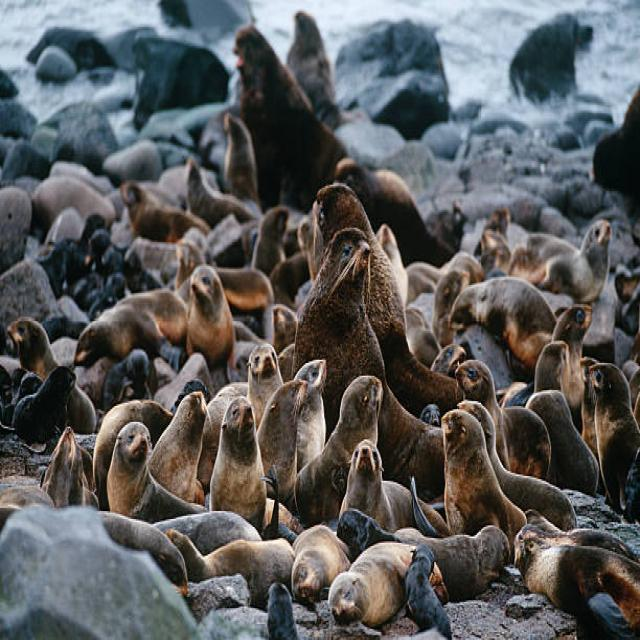WaterDog: (296, 372, 384, 525), (299, 227, 380, 385), (434, 409, 510, 537), (584, 358, 640, 509), (106, 424, 186, 519), (213, 393, 262, 528), (4, 316, 75, 384), (576, 211, 617, 304)
